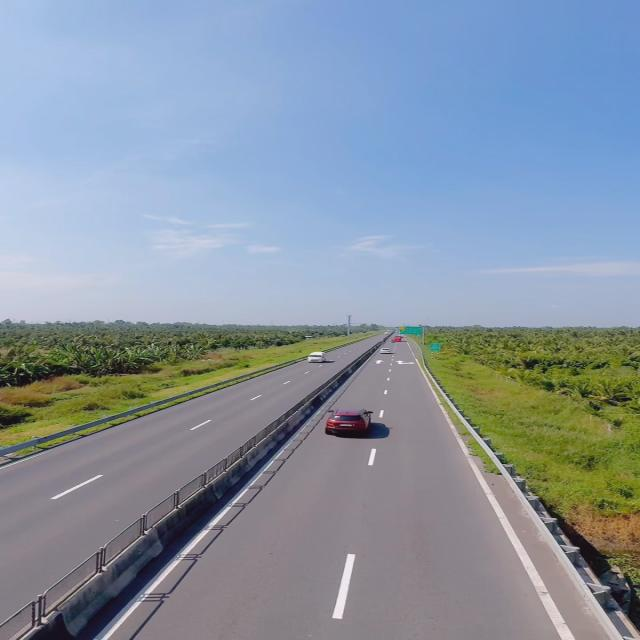car: (326, 411, 380, 438)
